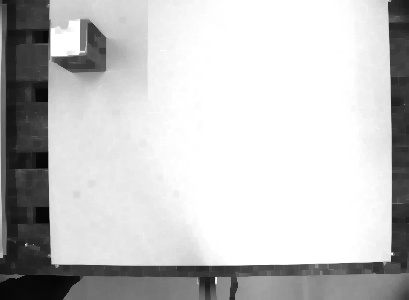b4: (47, 16, 108, 74)
